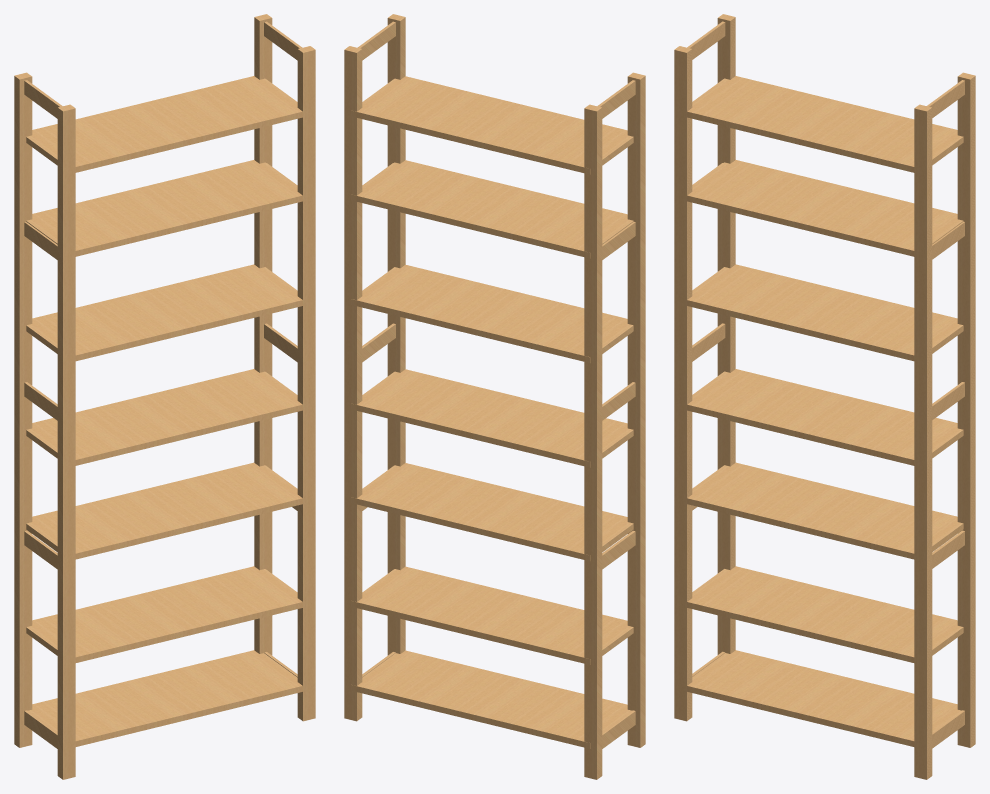
The model's file is shelf_pinewood_rack_full_height.glb.
3 renders of one model, left to right at view 1: azimuth 30°, elevation 25°; view 2: azimuth 150°, elevation 25°; view 3: azimuth 330°, elevation 25°, orthographic.
Visible parts, largest first — view 1: rack; view 2: rack; view 3: rack.
Boxes of the visible parts, x1=… form: rack: x1=14, y1=14, x2=315, y2=779; rack: x1=344, y1=14, x2=645, y2=779; rack: x1=674, y1=14, x2=975, y2=779.
Bounding box in the file's own units: 0.898 × 2.27 × 0.302.
1 material, 1 textured.
